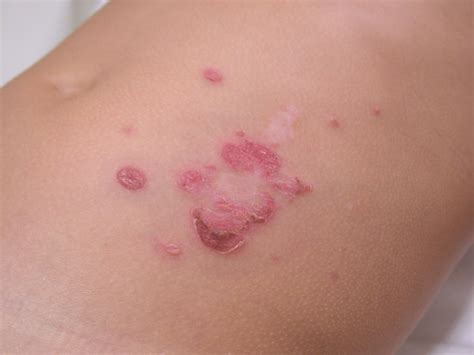Bacterial Infection: (179, 136, 308, 248)
